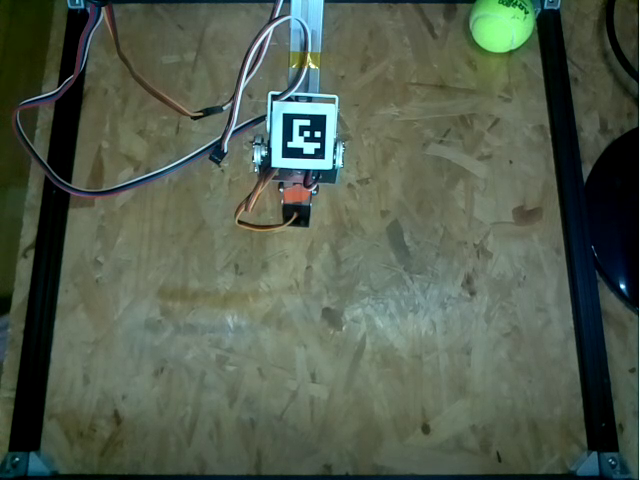tennis_ball: (470, 1, 537, 53)
